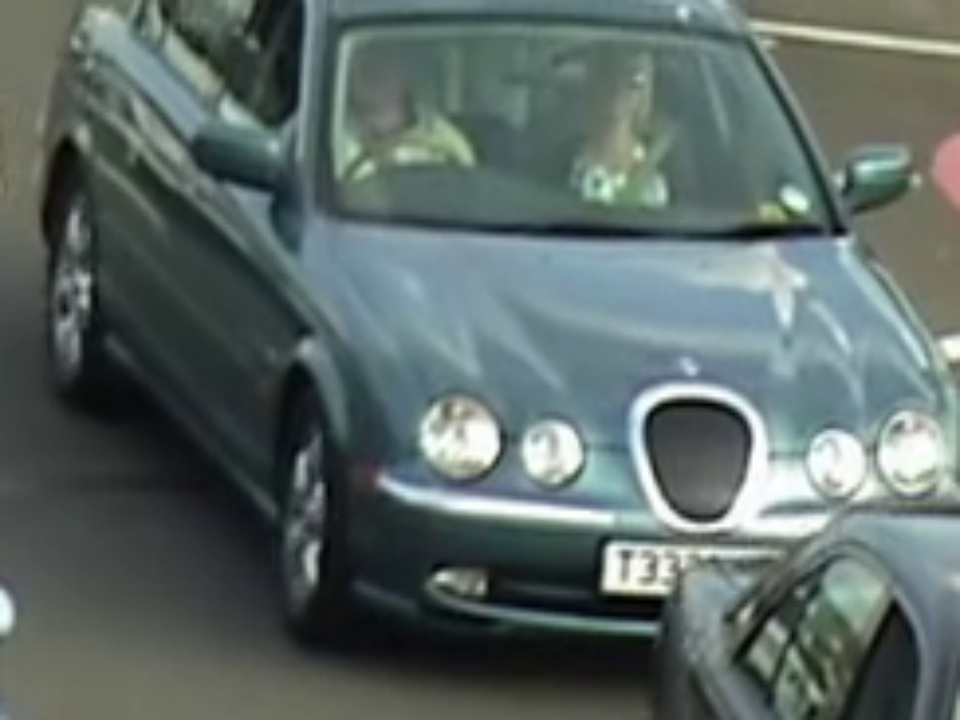TWO: (320, 13, 835, 241)
